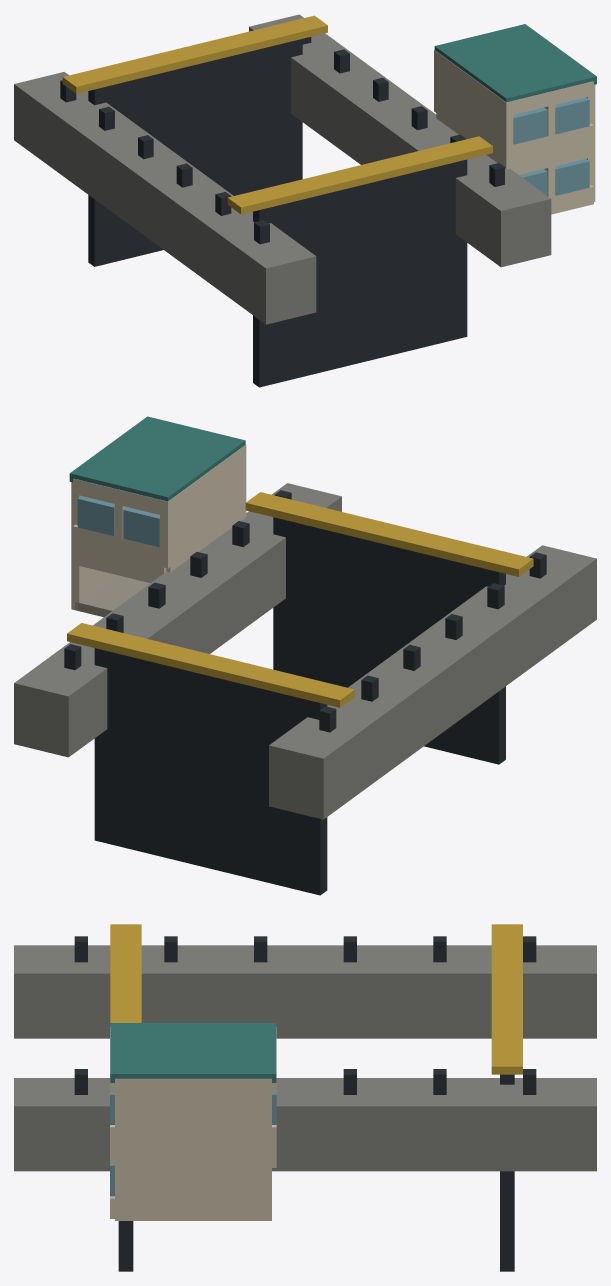
The model's file is bandit-locks.glb.
3 renders of one model, top to bottom at view 1: azimuth 30°, elevation 25°; view 2: azimuth 150°, elevation 25°; view 3: azimuth 270°, elevation 25°, orthographic. The views are drawn at different scales.
Parts seen in each view (by area): view 1: bandit-locks; view 2: bandit-locks; view 3: bandit-locks.
Boxes of the visible parts, x1,y1,x2,y2 form: bandit-locks: [14, 14, 596, 387]; bandit-locks: [14, 416, 596, 895]; bandit-locks: [14, 924, 596, 1271].
Size of the model in its own units: 22.22 by 13.22 by 26.
